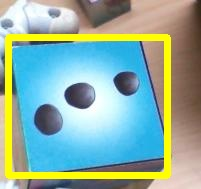Blue3: (8, 37, 167, 175)
